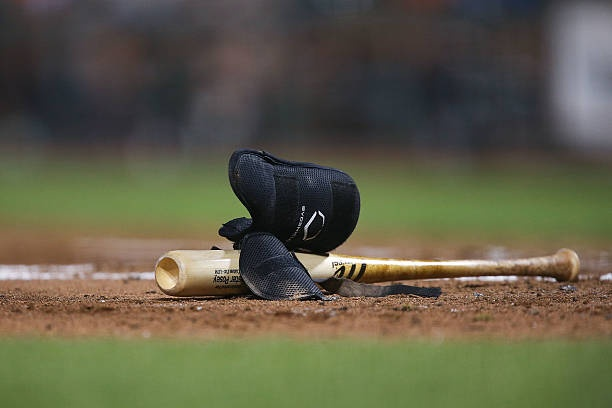bita: (152, 250, 585, 301)
